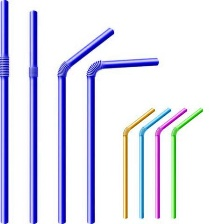drinking_straw: (82, 51, 163, 224), (54, 23, 117, 223), (169, 105, 212, 221), (23, 7, 43, 223), (0, 0, 13, 224)
